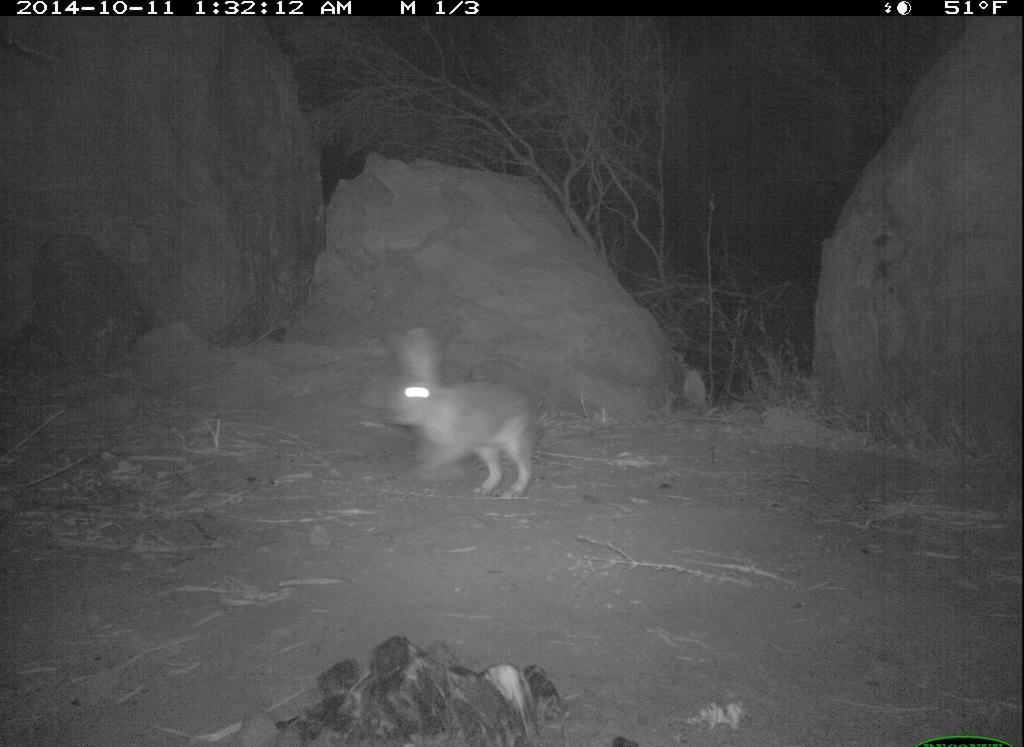rabbit: (386, 321, 547, 500)
